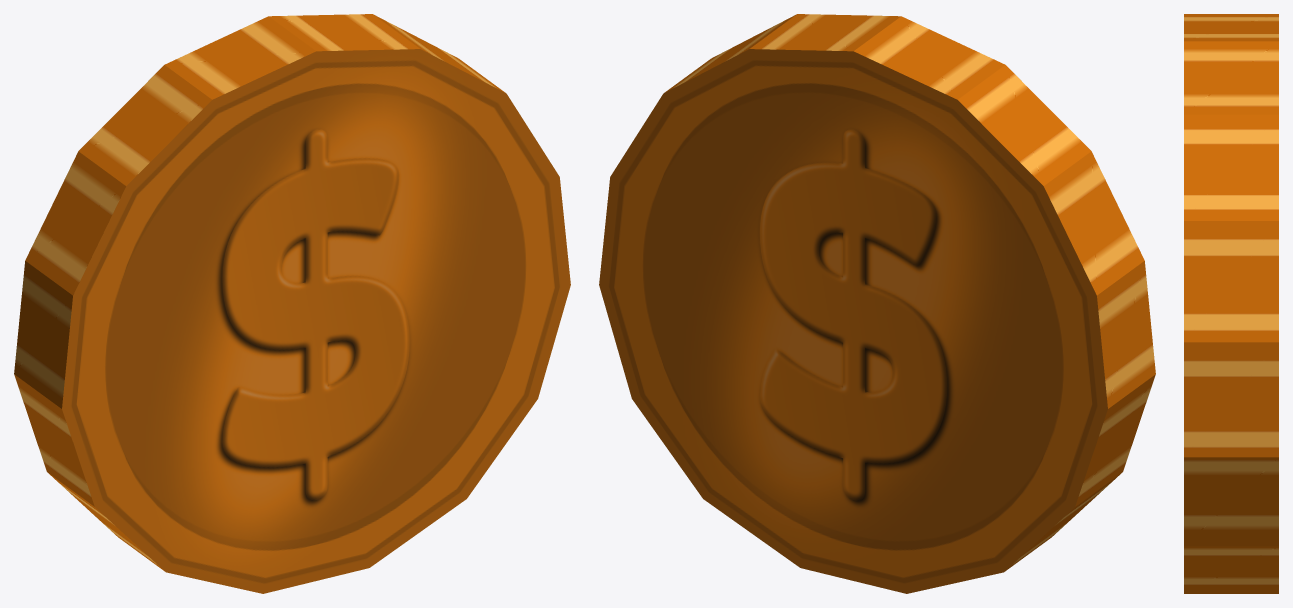
The model's file is bronzpara.fbx.
3 renders of one model, left to right at view 1: azimuth 30°, elevation 25°; view 2: azimuth 150°, elevation 25°; view 3: azimuth 270°, elevation 25°, orthographic.
Parts seen in each view (by area): view 1: bronzpara; view 2: bronzpara; view 3: bronzpara.
Part boxes in pixels (bbox=[...]): bronzpara: bbox=[14, 14, 570, 593]; bronzpara: bbox=[599, 14, 1155, 593]; bronzpara: bbox=[1184, 14, 1278, 593].
Bounding box in the file's own units: 6.19 × 6.15 × 1.01.
Materials: 1 (1 with a texture image).
